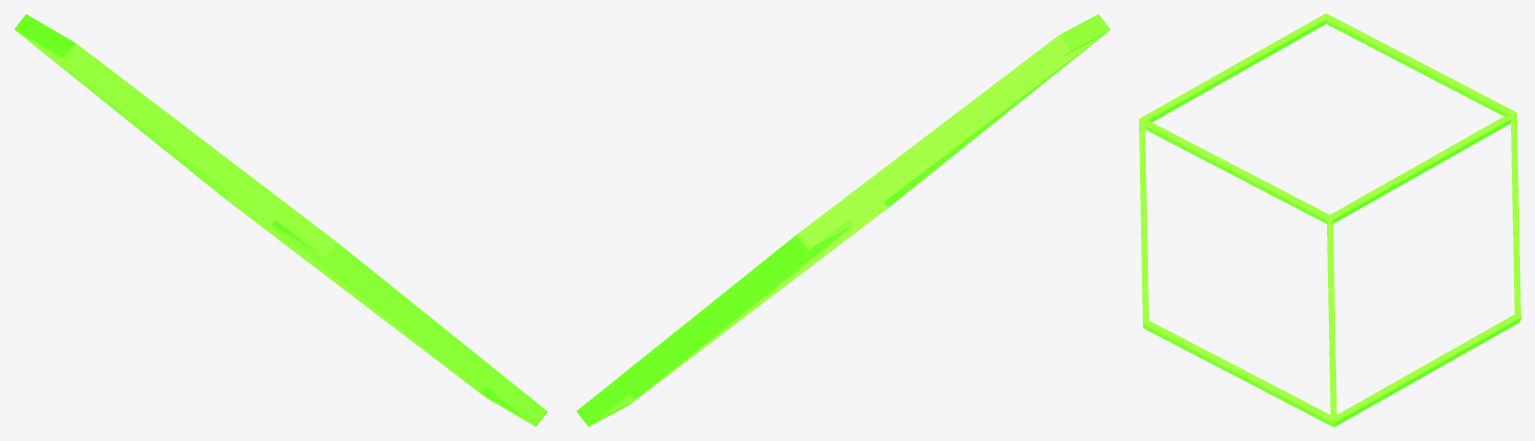
3 views of the same model, side by side, from view 1: azimuth 30°, elevation 25°; view 2: azimuth 150°, elevation 25°; view 3: azimuth 270°, elevation 25° (orthographic). The views are drawn at different scales.
Parts seen in each view (by area): view 1: 3d_on; view 2: 3d_on; view 3: 3d_on.
Part boxes in pixels (x1,y1,x2,y2): 3d_on: [14, 14, 547, 426]; 3d_on: [576, 14, 1110, 426]; 3d_on: [1139, 14, 1520, 426].
Bounding box in the file's own units: 0.0313 × 0.0313 × 0.0378.
